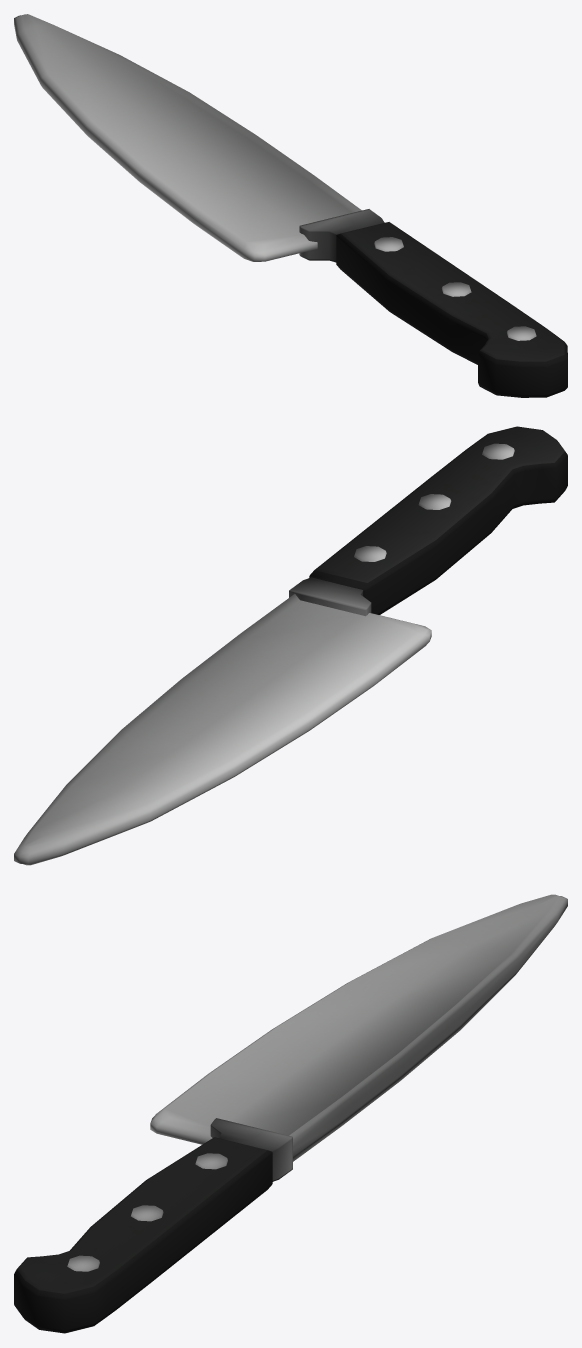
The model's file is tools_kitchen knife.fbx.
The picture shows the model from 3 angles, top to bottom: view 1: azimuth 30°, elevation 25°; view 2: azimuth 150°, elevation 25°; view 3: azimuth 330°, elevation 25°; orthographic projection. The views are drawn at different scales.
Visible parts, largest first — view 1: tools_kitchen knife; view 2: tools_kitchen knife; view 3: tools_kitchen knife.
Boxes of the visible parts, x1=… form: tools_kitchen knife: x1=14, y1=14, x2=567, y2=397; tools_kitchen knife: x1=14, y1=426, x2=567, y2=865; tools_kitchen knife: x1=14, y1=894, x2=567, y2=1333.
Bounding box in the file's own units: 4.02 × 1.22 × 25.62.
